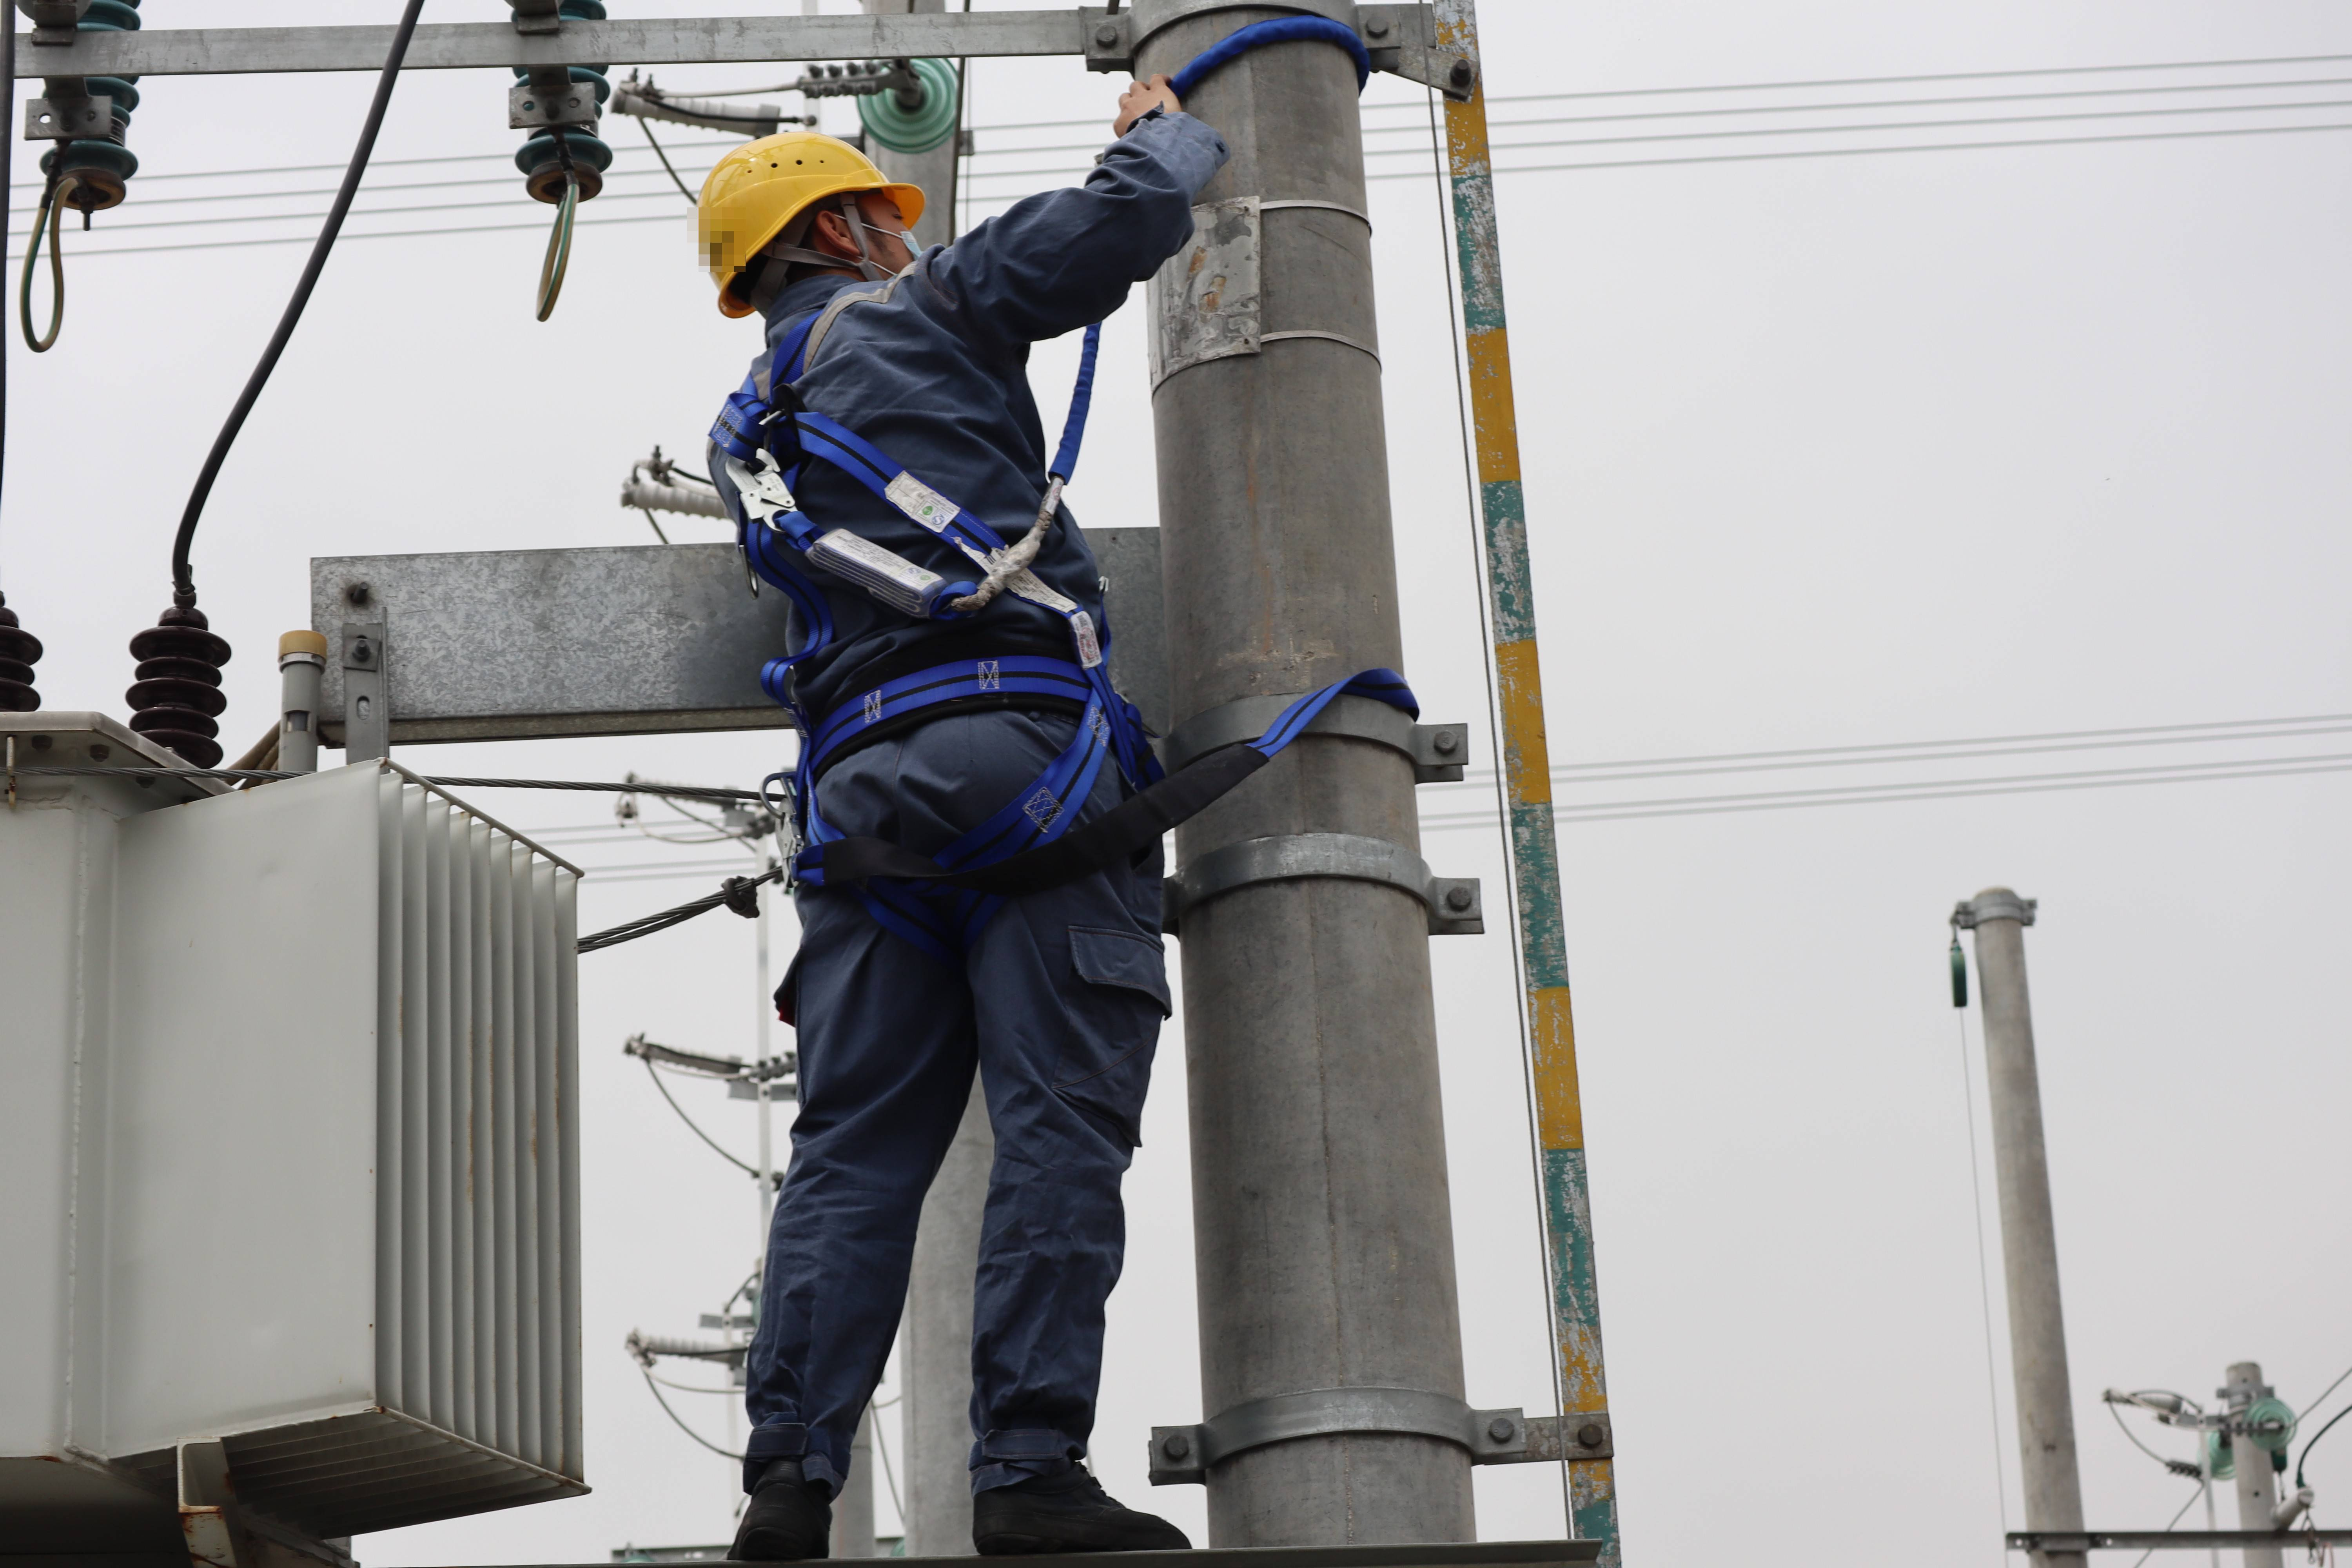downsuit: (739, 712, 1181, 1491)
upsuit: (712, 161, 1208, 700)
